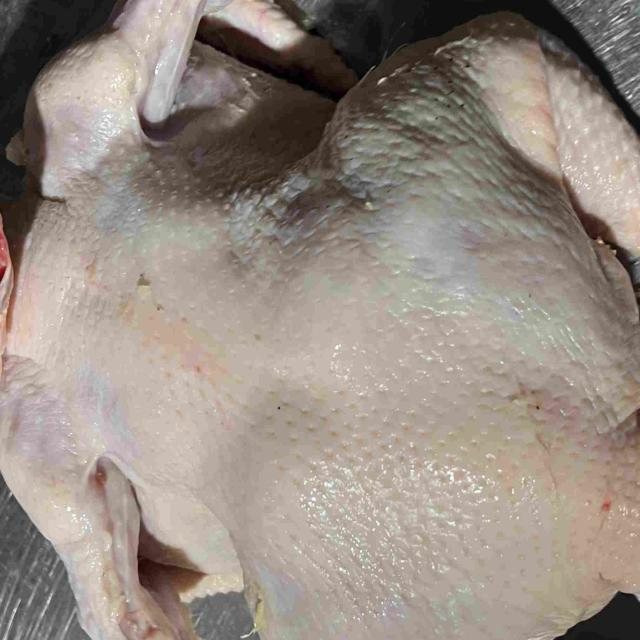back: (16, 155, 640, 628)
leg: (329, 11, 640, 422), (247, 563, 547, 640)
wing: (24, 0, 356, 196), (0, 385, 240, 640)
